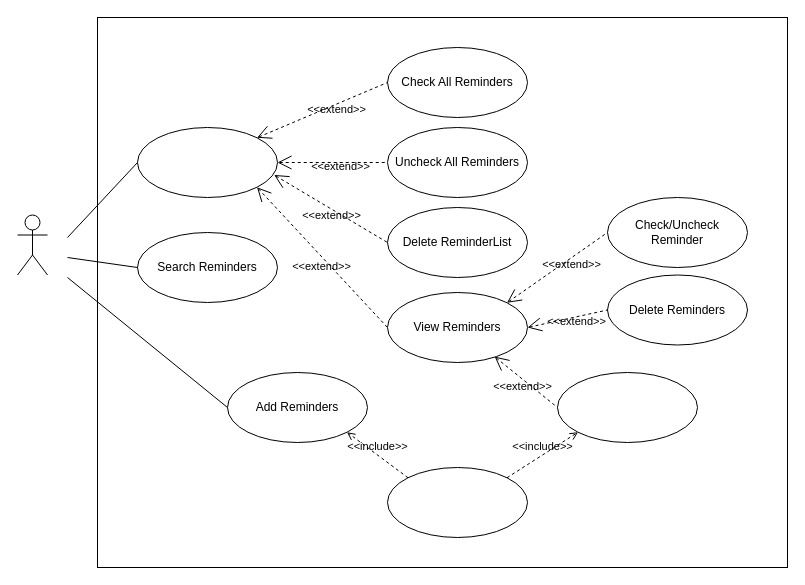
Image size: 805x585. Some labels were removed from this diagram. Each missing label, with the centre of its shape:
Edit Reminders: [627,407]
Manage Alert: [457,502]
User: [32,244]
View ReminderLists: [207,162]
